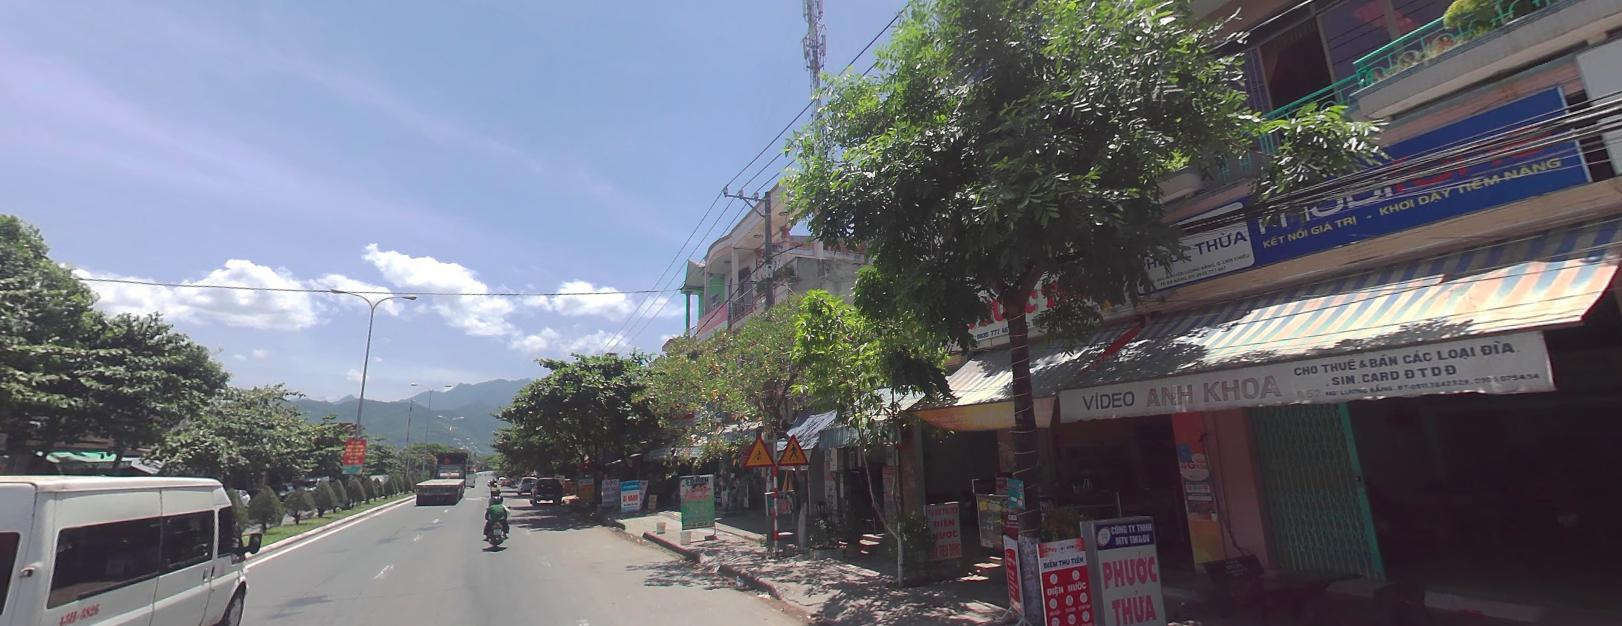Nguy hiem: (777, 433, 813, 468), (743, 433, 776, 471)
